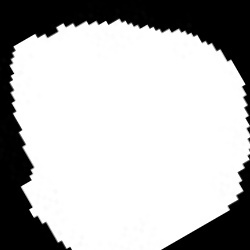spot: (10, 20, 248, 249)
